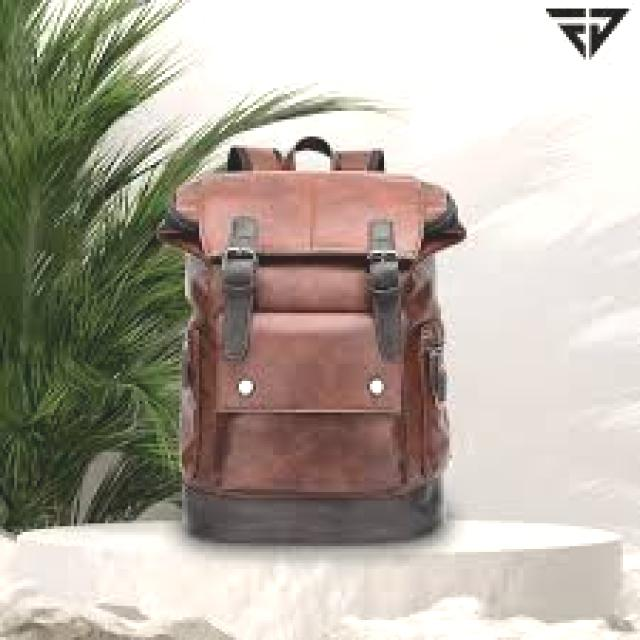backpack: (155, 135, 468, 545)
